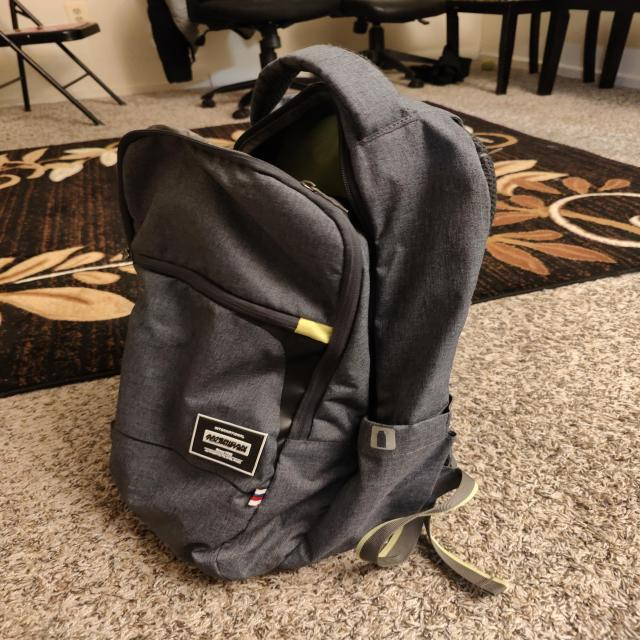bag: (138, 45, 502, 584)
